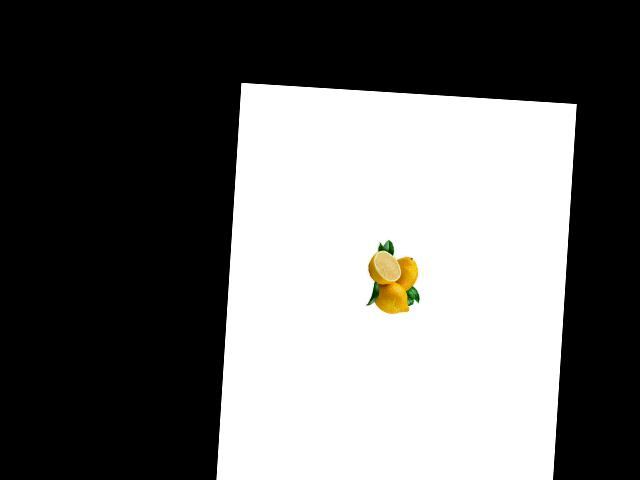lemon: (369, 279, 415, 317)
